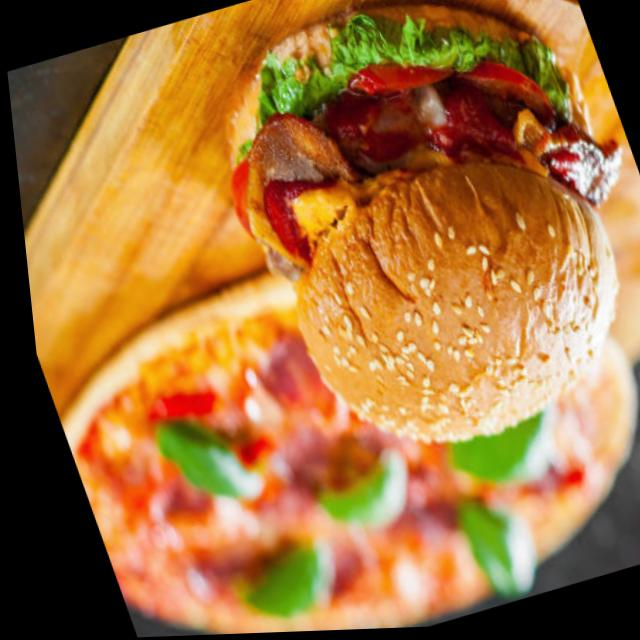burger: (171, 0, 640, 485)
pizza: (17, 189, 640, 640)
